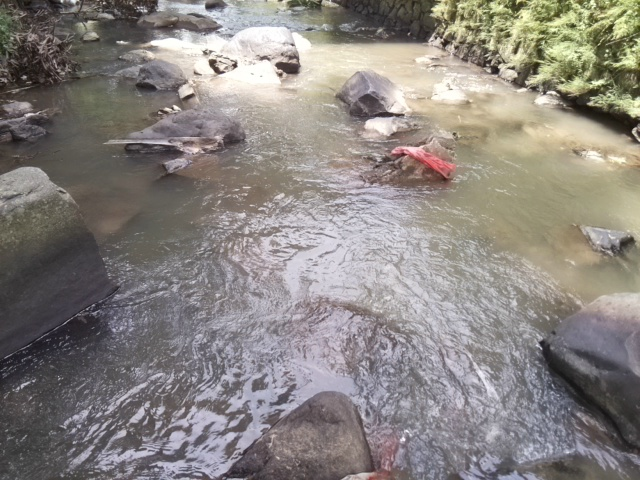Sampah_Plastik: (387, 145, 459, 181)
